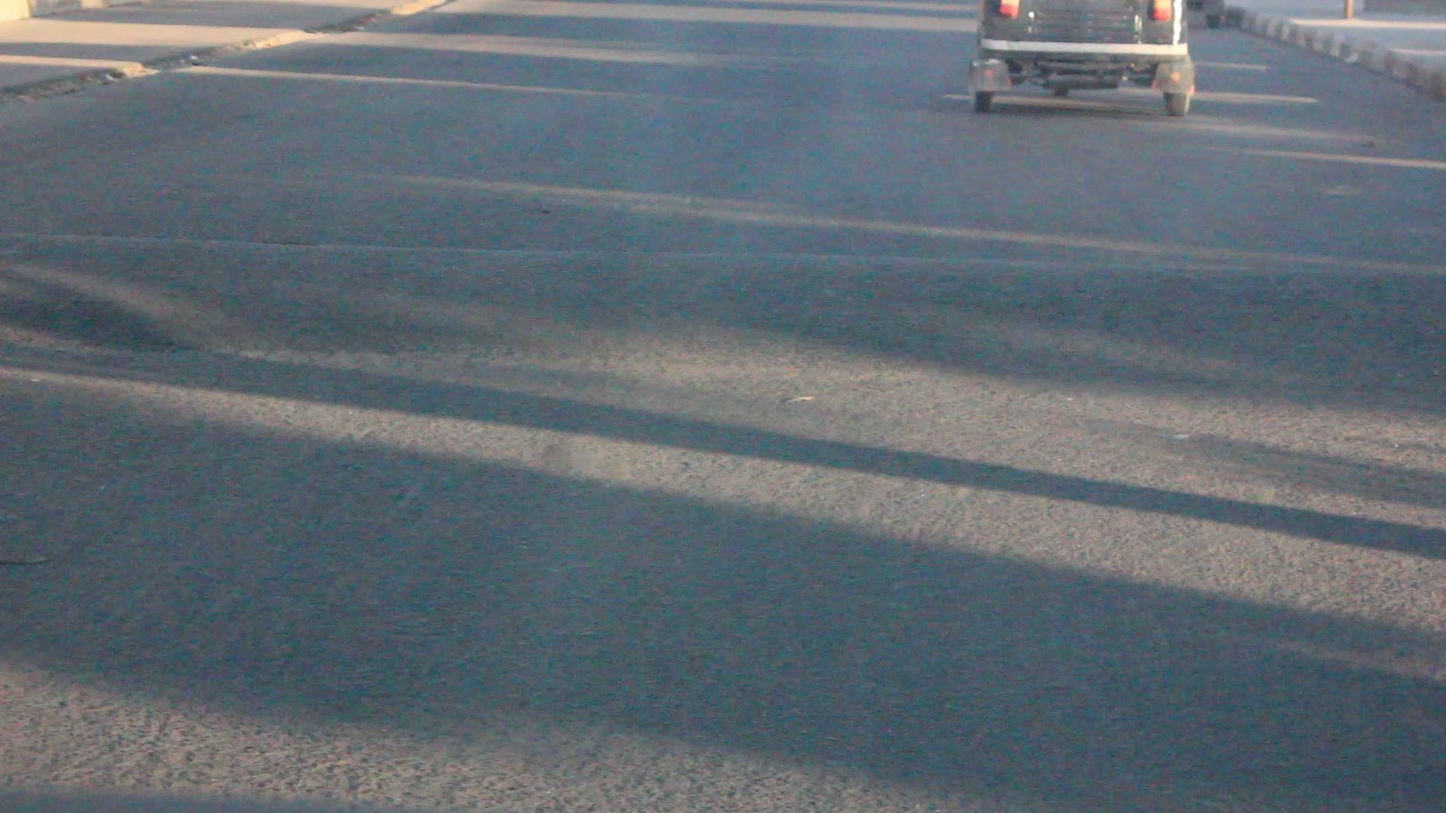Bump: (4, 234, 1445, 401)
